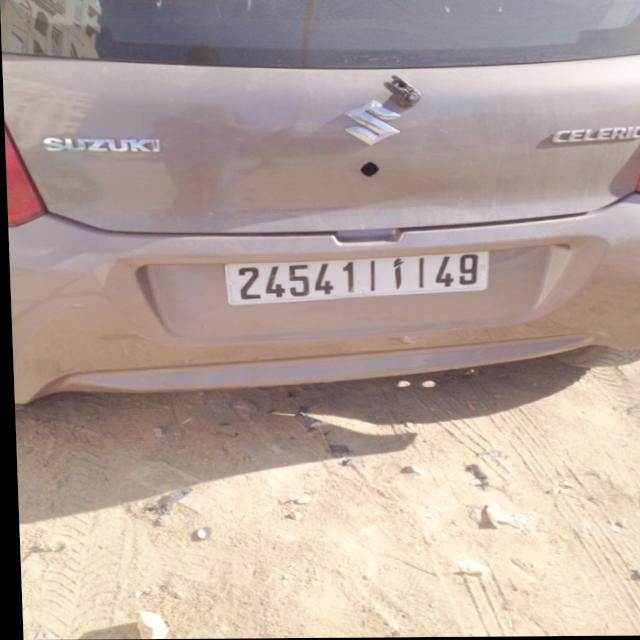License-Plate: (223, 252, 488, 305)
